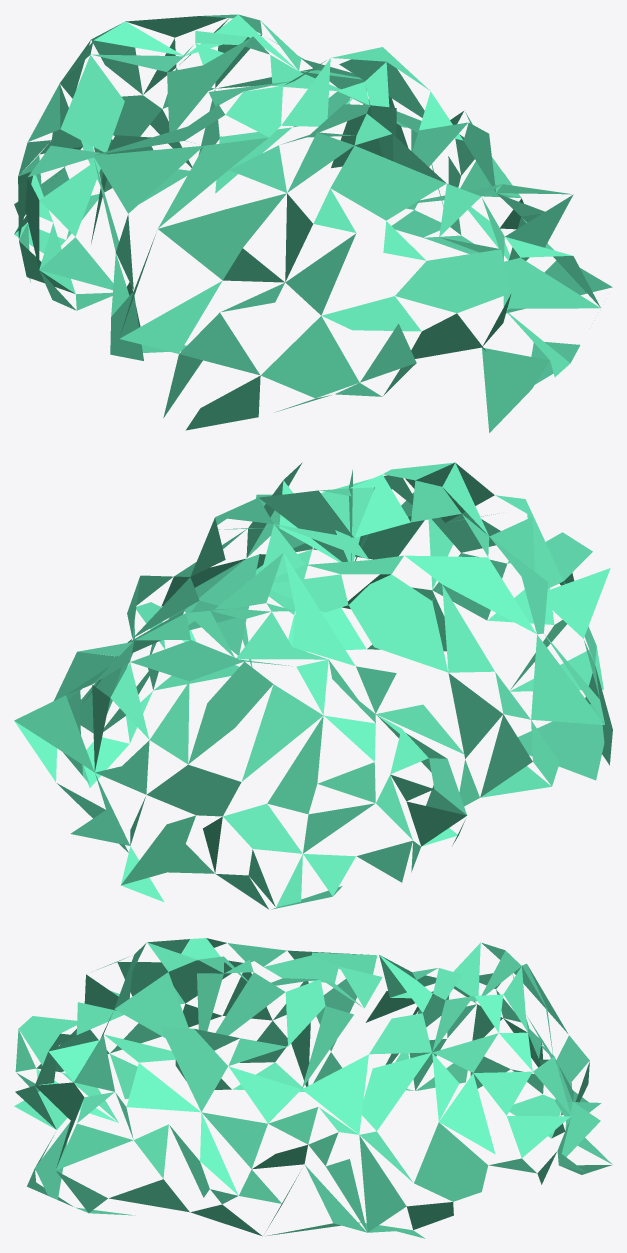
The model's file is WrightBuckwheat_LOD3.fbx.
The picture shows the model from 3 angles, top to bottom: view 1: azimuth 30°, elevation 25°; view 2: azimuth 150°, elevation 25°; view 3: azimuth 270°, elevation 25°; orthographic projection. The views are drawn at different scales.
Visible parts, largest first — view 1: WrightBuckwheat_LOD3; view 2: WrightBuckwheat_LOD3; view 3: WrightBuckwheat_LOD3.
Part boxes in pixels (box(x1,y1,x2,y2)): WrightBuckwheat_LOD3: box(14, 14, 612, 432); WrightBuckwheat_LOD3: box(14, 462, 612, 909); WrightBuckwheat_LOD3: box(14, 938, 612, 1238).
Bounding box in the file's own units: 101 × 41.04 × 71.39.
